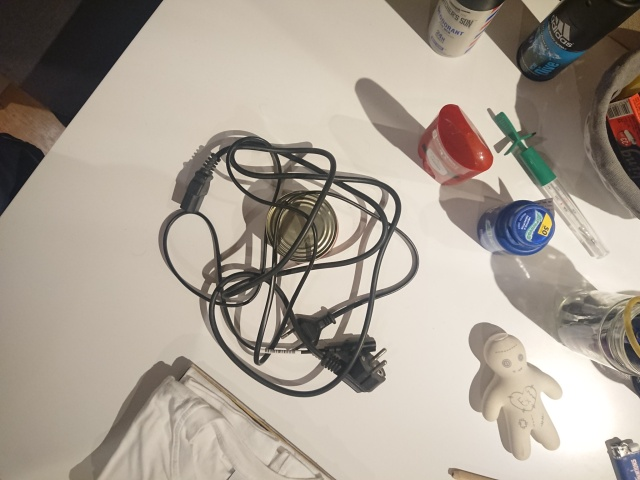Podravka Luncheon Meat 150g: (262, 187, 341, 264)
